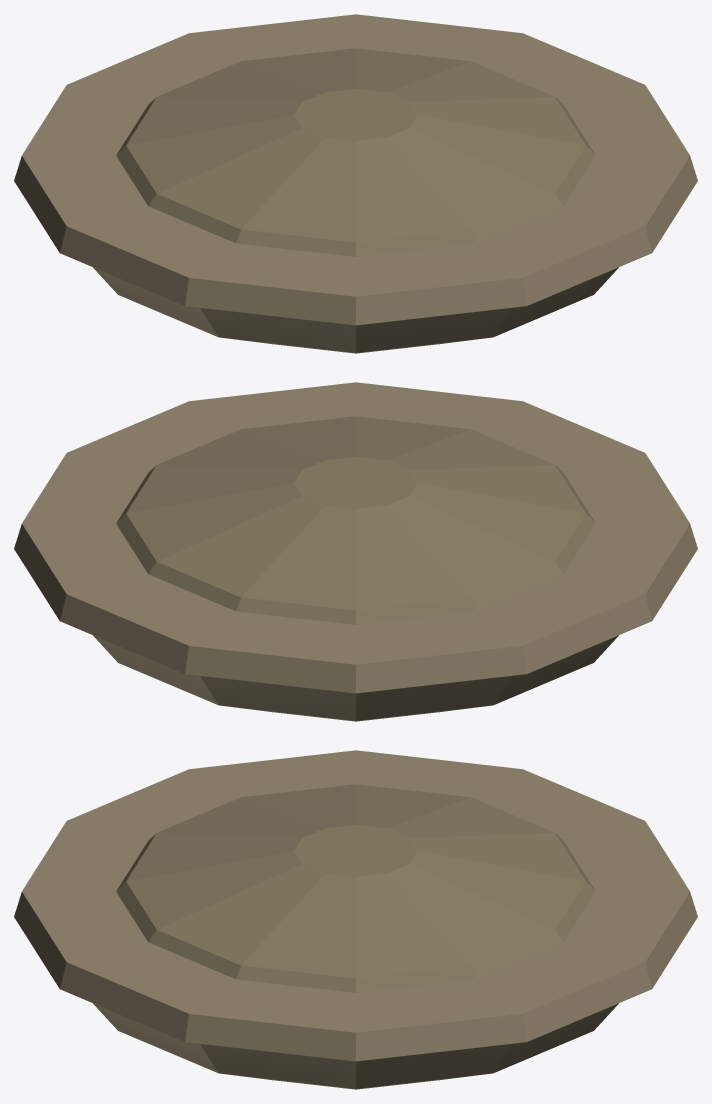
Rendered from prop_zaru.glb.
3 renders of one model, top to bottom at view 1: azimuth 30°, elevation 25°; view 2: azimuth 150°, elevation 25°; view 3: azimuth 270°, elevation 25°, orthographic.
Parts seen in each view (by area): view 1: prop_zaru; view 2: prop_zaru; view 3: prop_zaru.
Boxes of the visible parts, x1,y1,x2,y2 form: prop_zaru: (14,14,697,353); prop_zaru: (14,382,697,721); prop_zaru: (14,750,697,1089).
Size of the model in its own units: 0.61 by 0.165 by 0.61.
